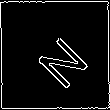N_NW: (23, 23, 87, 87)
